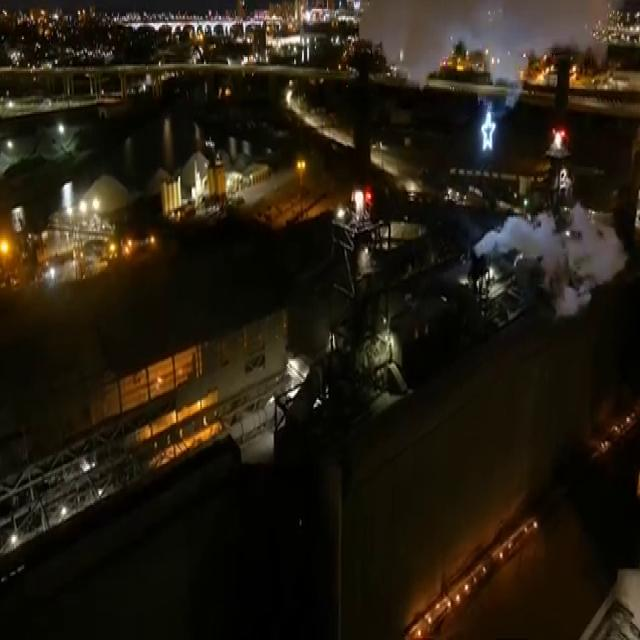smoke: (363, 0, 611, 89), (487, 206, 627, 295)
